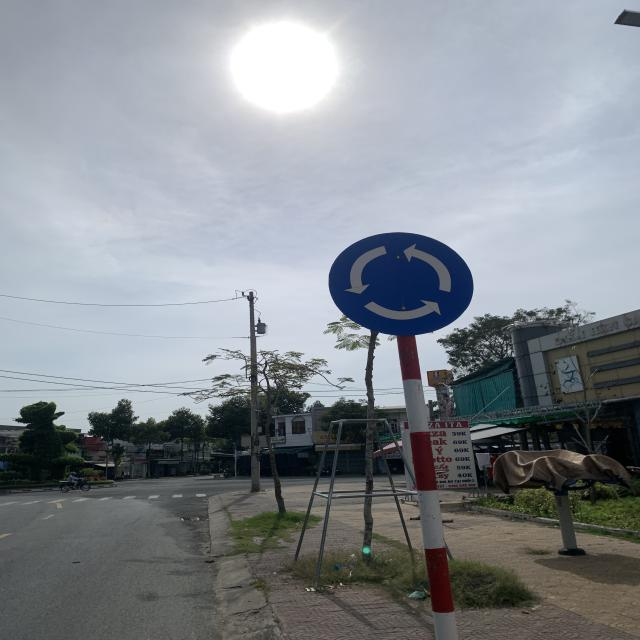Xe_Bus: (328, 232, 476, 338)
